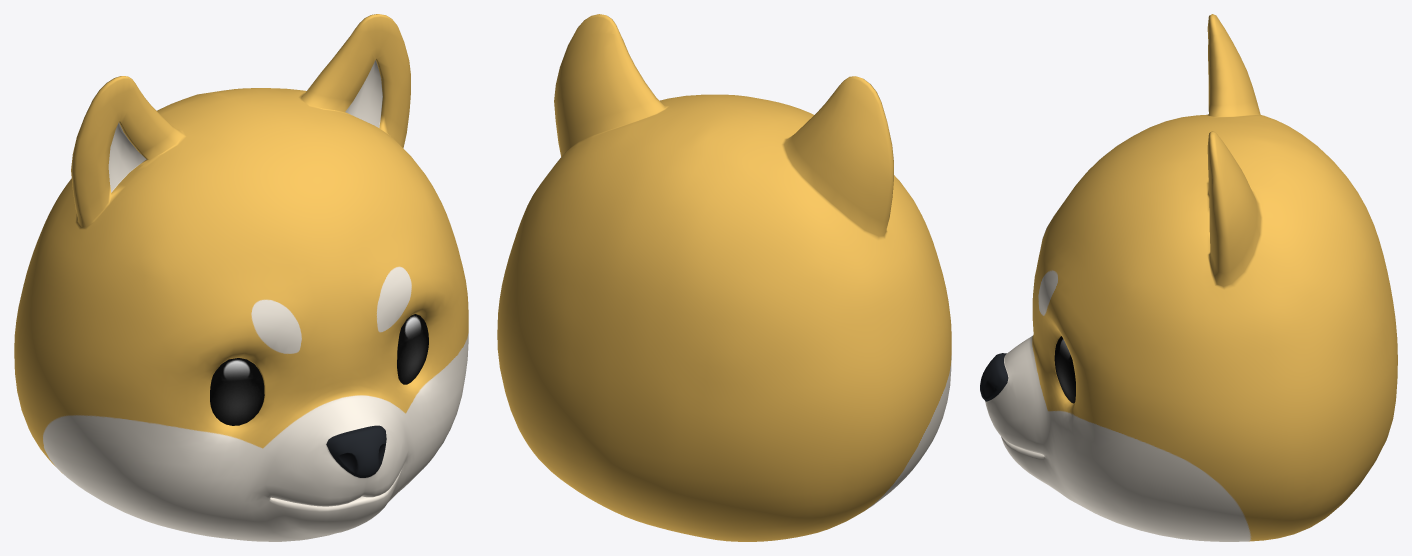
Rendered from chaiquan_20180409.fbx.
The picture shows the model from 3 angles, left to right: view 1: azimuth 30°, elevation 25°; view 2: azimuth 150°, elevation 25°; view 3: azimuth 270°, elevation 25°; orthographic projection. The views are drawn at different scales.
Visible parts, largest first — view 1: tou; view 2: tou; view 3: tou.
Part boxes in pixels (left/top/right/bottom): tou: left=14, top=14, right=468, bottom=541; tou: left=497, top=14, right=951, bottom=541; tou: left=980, top=14, right=1397, bottom=541.
Size of the model in its own units: 265 by 290 by 250.
1 material, 1 textured.
